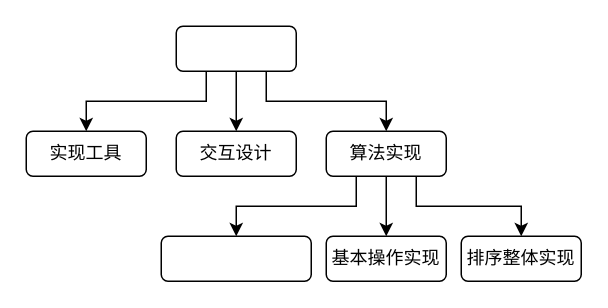
This 608x308 diagram has some shape labels left out. The shapes that lost their labels are listed below. From the top down, each one's centre as x and y in pixels, then its label:
At [235,48]: "设计思想".
At [235,258]: "Vue框架、Vuex、监视属性".
